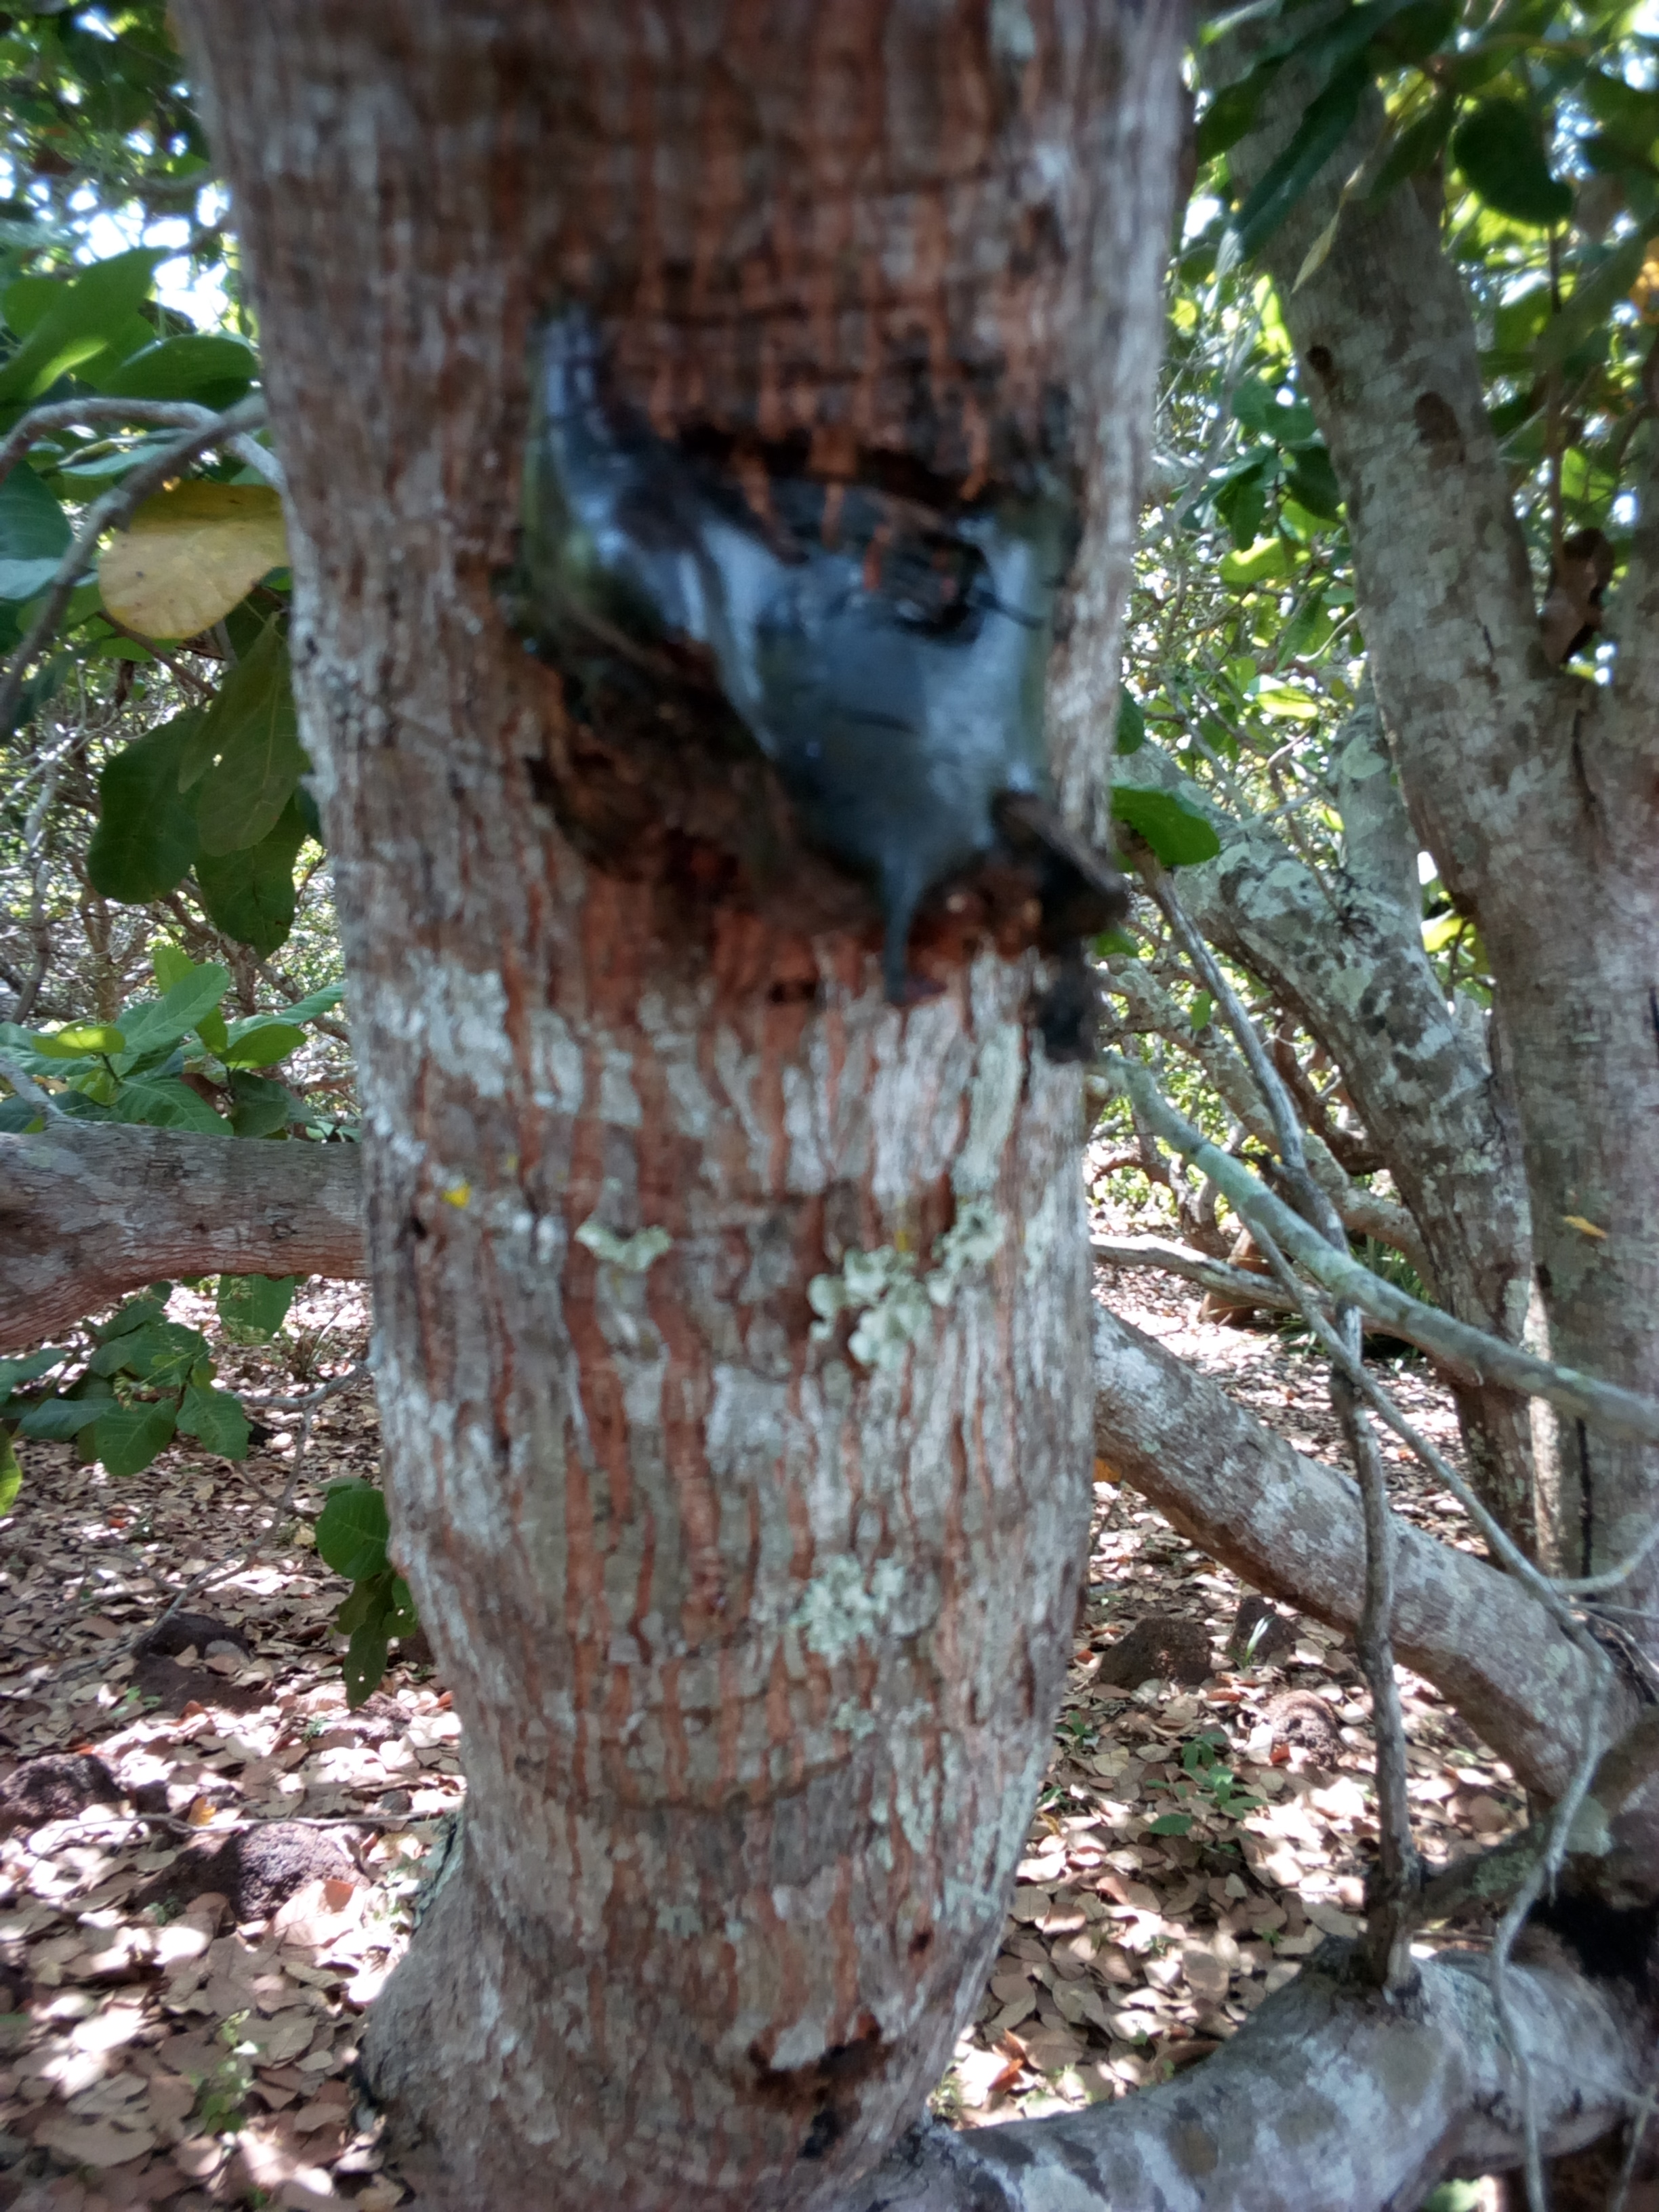Mecocorynus longiceps: (432, 333, 1246, 1116)
